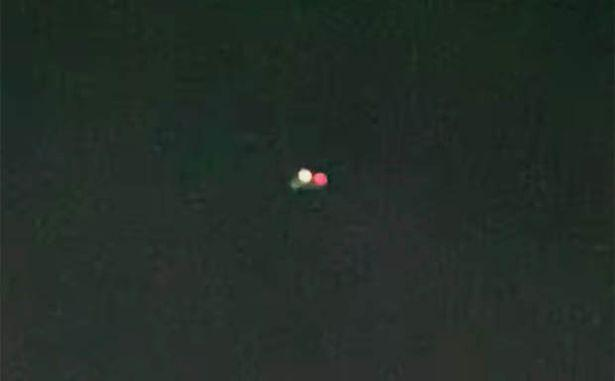Plane: (261, 153, 356, 205)
